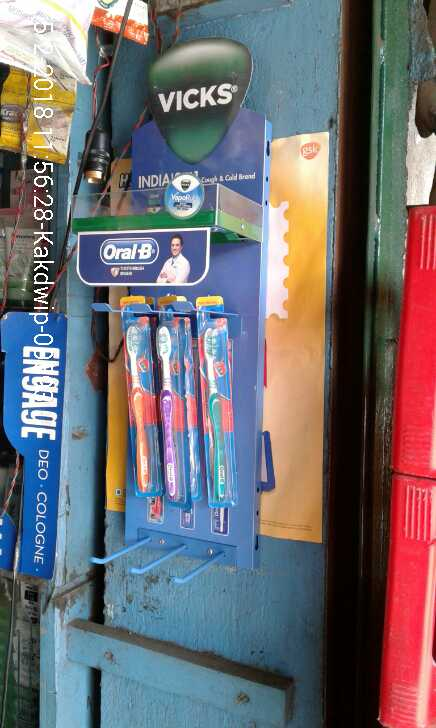oralb: (114, 292, 160, 503), (195, 293, 239, 511), (151, 298, 192, 510)
